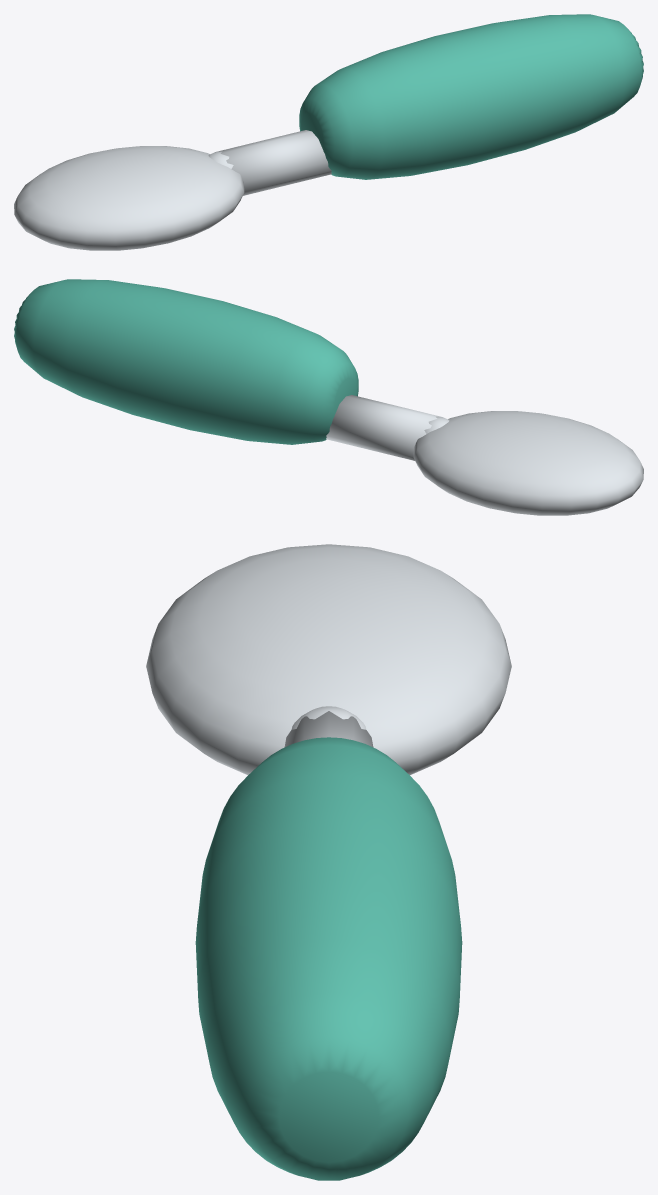
The model's file is cutlery_a.glb.
The picture shows the model from 3 angles, top to bottom: view 1: azimuth 30°, elevation 25°; view 2: azimuth 150°, elevation 25°; view 3: azimuth 270°, elevation 25°; orthographic projection. The views are drawn at different scales.
Parts seen in each view (by area): view 1: body; view 2: body; view 3: body.
Boxes of the visible parts, left/top/right/bottom form: body: left=14, top=14, right=643, bottom=250; body: left=14, top=279, right=643, bottom=515; body: left=146, top=544, right=511, bottom=1180.
Size of the model in its own units: 0.2 by 0.0379 by 0.052.
